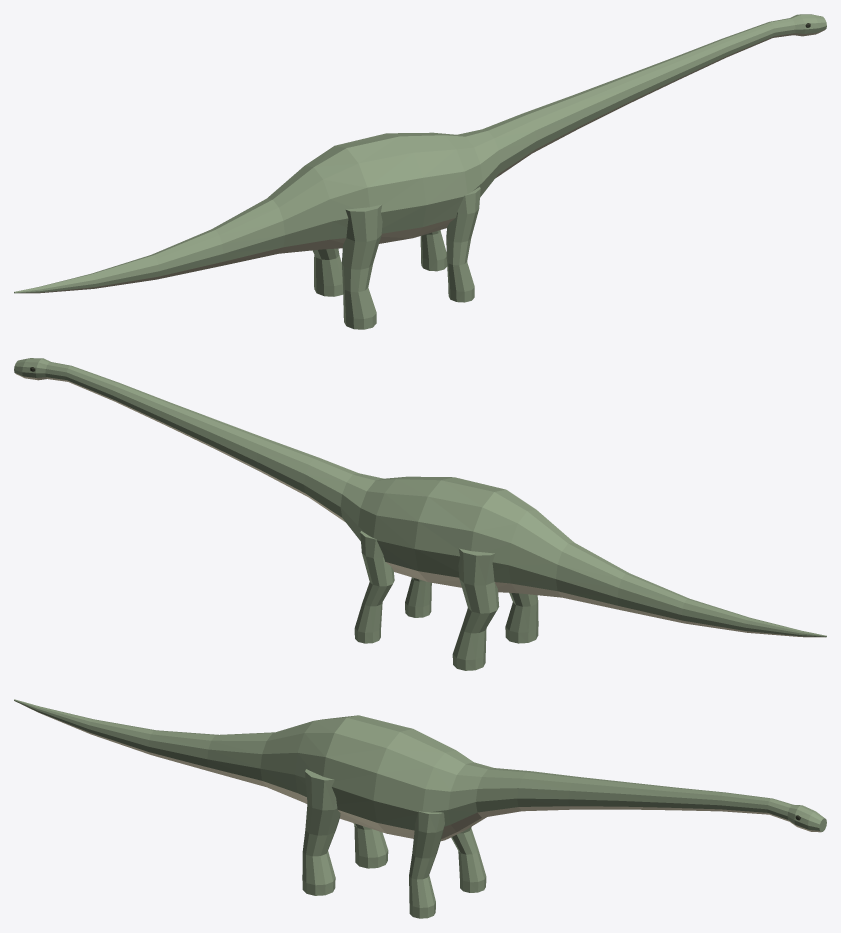
3 renders of one model, top to bottom at view 1: azimuth 30°, elevation 25°; view 2: azimuth 150°, elevation 25°; view 3: azimuth 330°, elevation 25°, orthographic.
Parts seen in each view (by area): view 1: MamenchisaurusYoungiInspired; view 2: MamenchisaurusYoungiInspired; view 3: MamenchisaurusYoungiInspired.
Boxes of the visible parts, <box> form: MamenchisaurusYoungiInspired: <box>14,14,826,329</box>; MamenchisaurusYoungiInspired: <box>14,358,826,670</box>; MamenchisaurusYoungiInspired: <box>14,699,826,918</box>.
Size of the model in its own units: 19.72 by 4.2 by 2.42.
